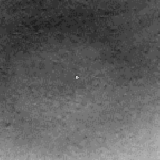Target: (74, 75, 80, 81)
